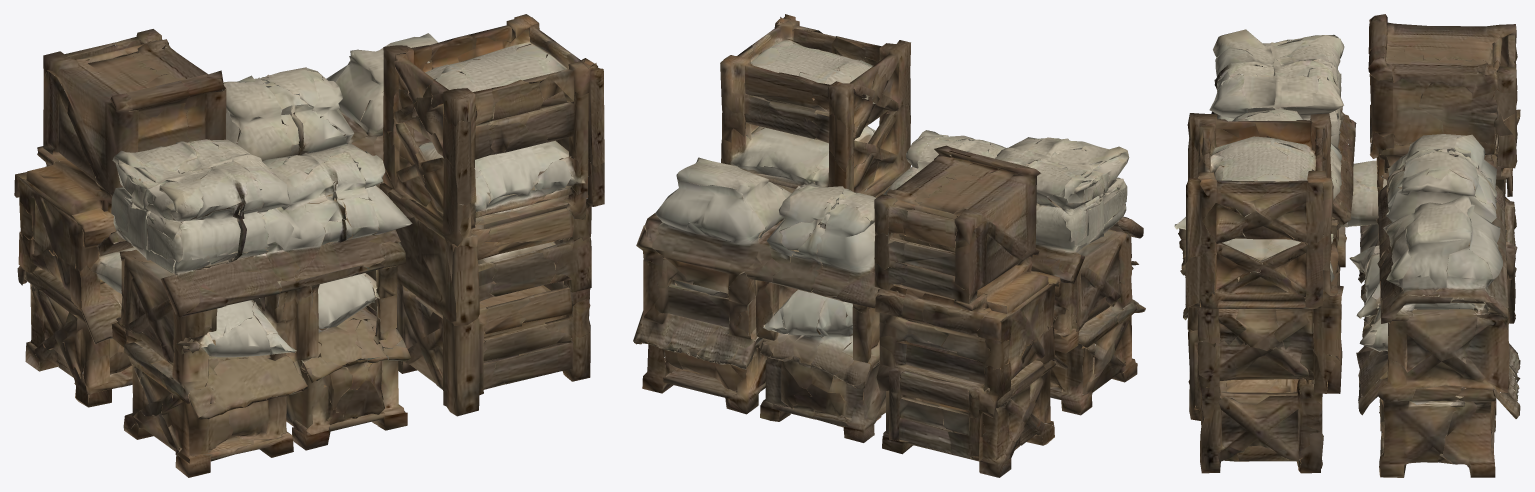
The model's file is crate-stack.glb.
The picture shows the model from 3 angles, left to right: view 1: azimuth 30°, elevation 25°; view 2: azimuth 150°, elevation 25°; view 3: azimuth 270°, elevation 25°; orthographic projection. The views are drawn at different scales.
Parts seen in each view (by area): view 1: Mesh_0; view 2: Mesh_0; view 3: Mesh_0.
Boxes of the visible parts, x1,y1,x2,y2 form: Mesh_0: (14, 14, 604, 477); Mesh_0: (633, 14, 1145, 477); Mesh_0: (1174, 14, 1520, 477).
Bounding box in the file's own units: 1.9 × 1.37 × 1.44.
1 material, 1 textured.
